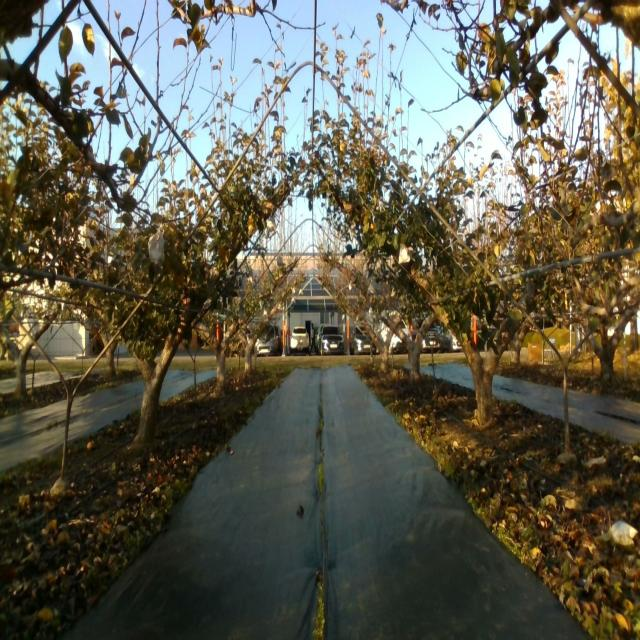pearbags: (148, 231, 164, 264), (398, 244, 410, 264)
